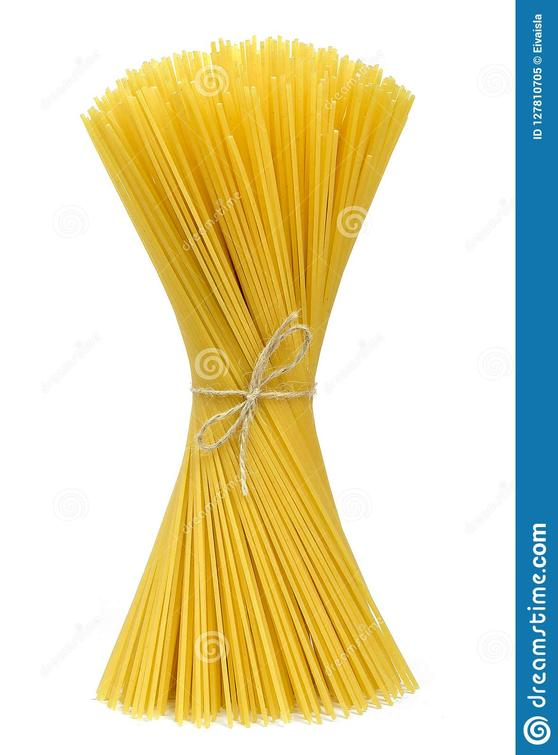spaghetti: (67, 50, 439, 719)
